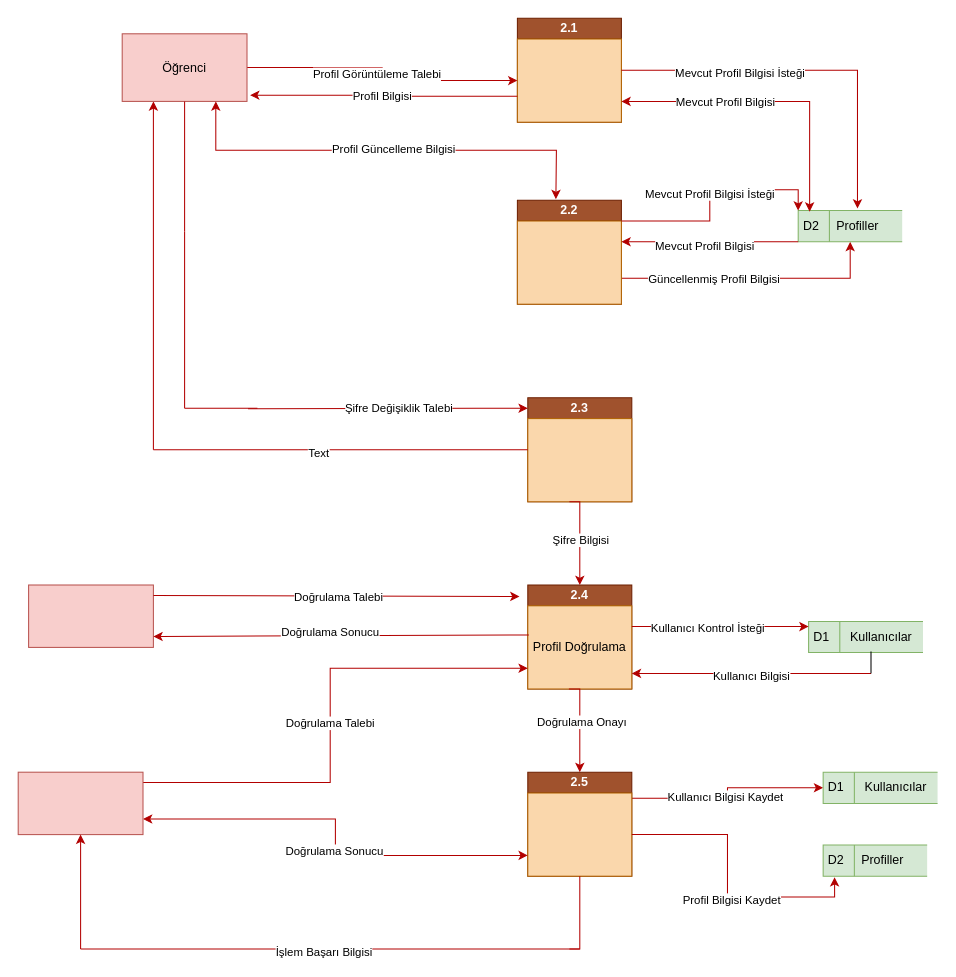
The diagram is 956 pixels wide and 977 high, and some of its shapes have lost their labels. The box of each missing label's shape, as (x1, y1, x2, y2) in pixels:
Admin: (28, 584, 153, 647)
Akademisyen Koordinatör: (17, 771, 143, 835)
Profil Görüntüleme: (516, 38, 621, 122)
Profil Güncelleme: (516, 220, 621, 304)
Profil Kaydetme: (527, 792, 632, 876)
Şifre Güncelleme: (527, 418, 632, 502)
